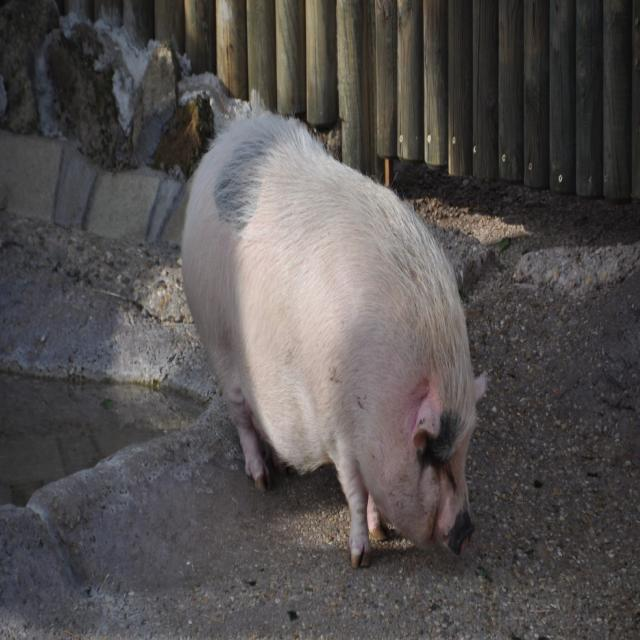pig: (178, 73, 489, 569)
